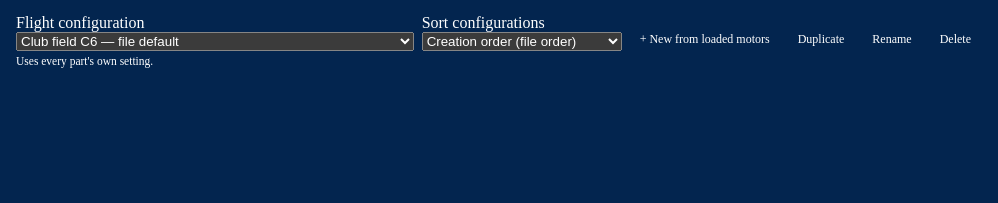
Test: ConfigPanel › fills deletion only when the configuration has unprotected work: true
The image size is (998, 203).
Click the button with aria-label "Delete Club field C6 — configuration 1": [955, 40] box [930,28,981,51]
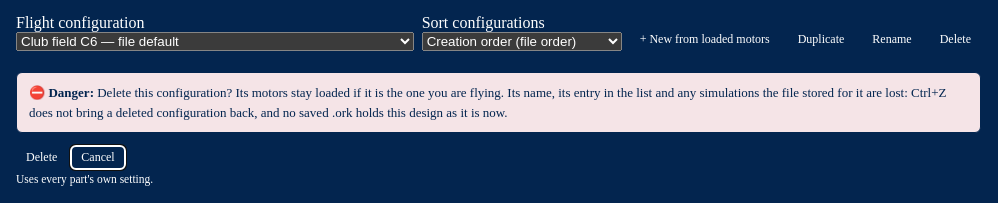
Expected: the number of elements with class "message-danger" is 1, [16,72,981,133]
Expected: the element with class "message-label" reads "⛔ Danger:", [29,85,97,100]
